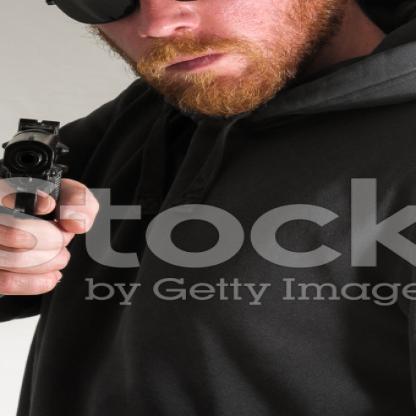gun: (0, 105, 101, 246)
